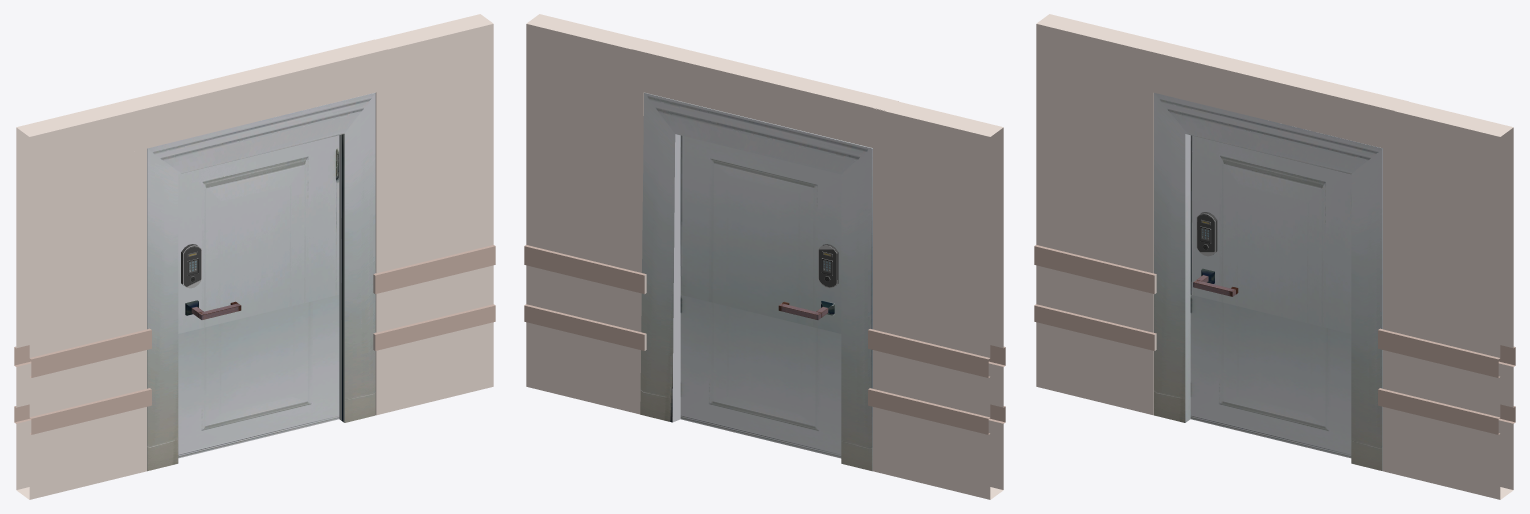
The model's file is Door_Locked.fbx.
3 renders of one model, left to right at view 1: azimuth 30°, elevation 25°; view 2: azimuth 150°, elevation 25°; view 3: azimuth 330°, elevation 25°, orthographic.
Parts seen in each view (by area): view 1: Door_Locked; view 2: Door_Locked; view 3: Door_Locked.
Part boxes in pixels (<box>): Door_Locked: <box>14,14,495,499</box>; Door_Locked: <box>524,14,1005,499</box>; Door_Locked: <box>1034,14,1515,499</box>.
Size of the model in its own units: 402 by 300 by 42.9.
